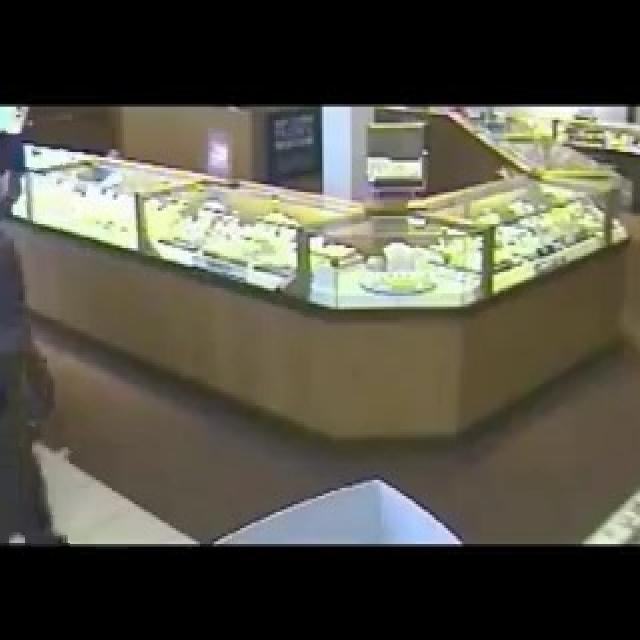Normal: (0, 134, 68, 552)
